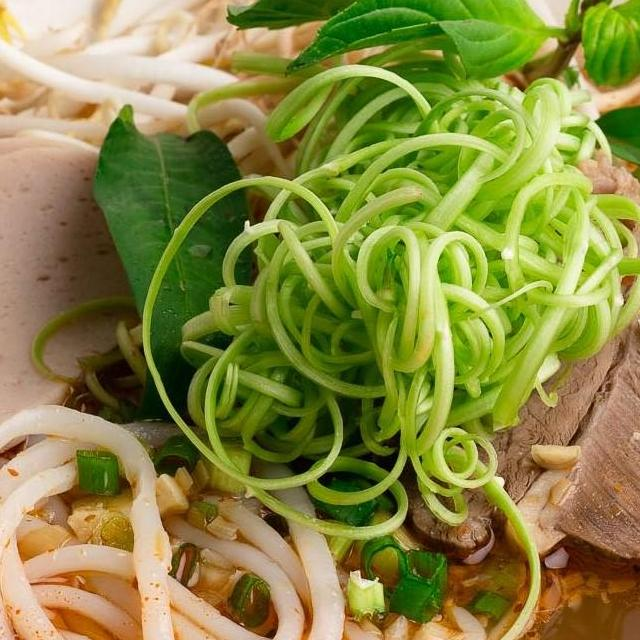bun: (0, 9, 193, 425)
bun bo: (0, 0, 640, 640)
thit bo: (0, 447, 542, 640), (0, 352, 620, 516)
